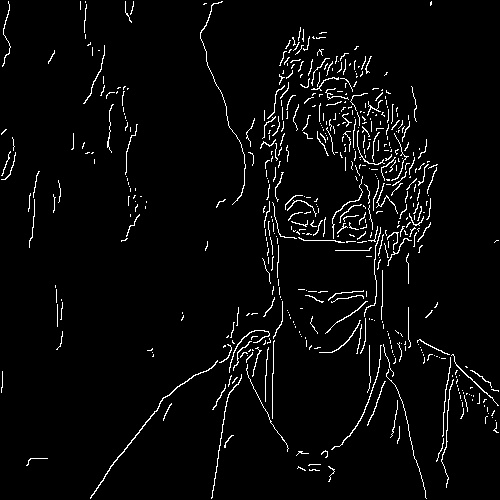mask: (270, 239, 391, 348)
